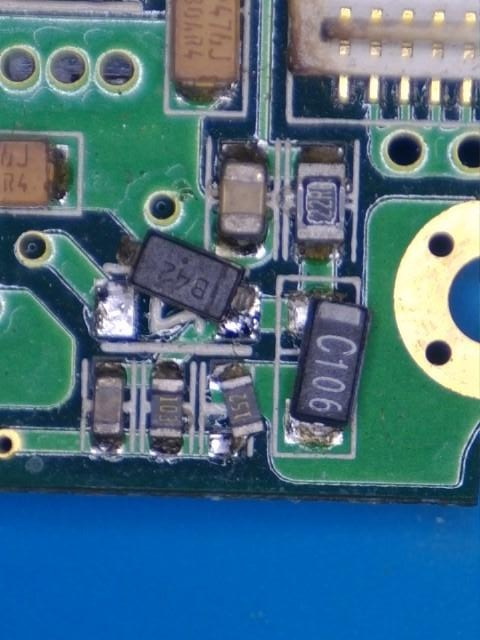pcb_defect: (95, 230, 261, 342), (285, 290, 369, 446), (207, 364, 265, 457)
